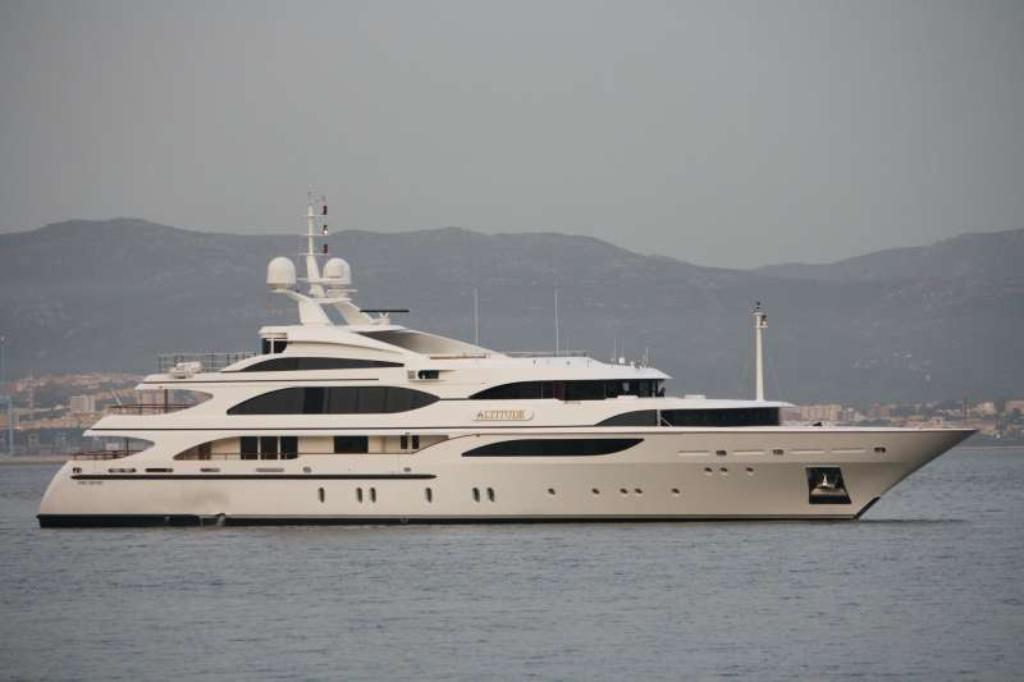PassengerShip: (24, 225, 1012, 528)
